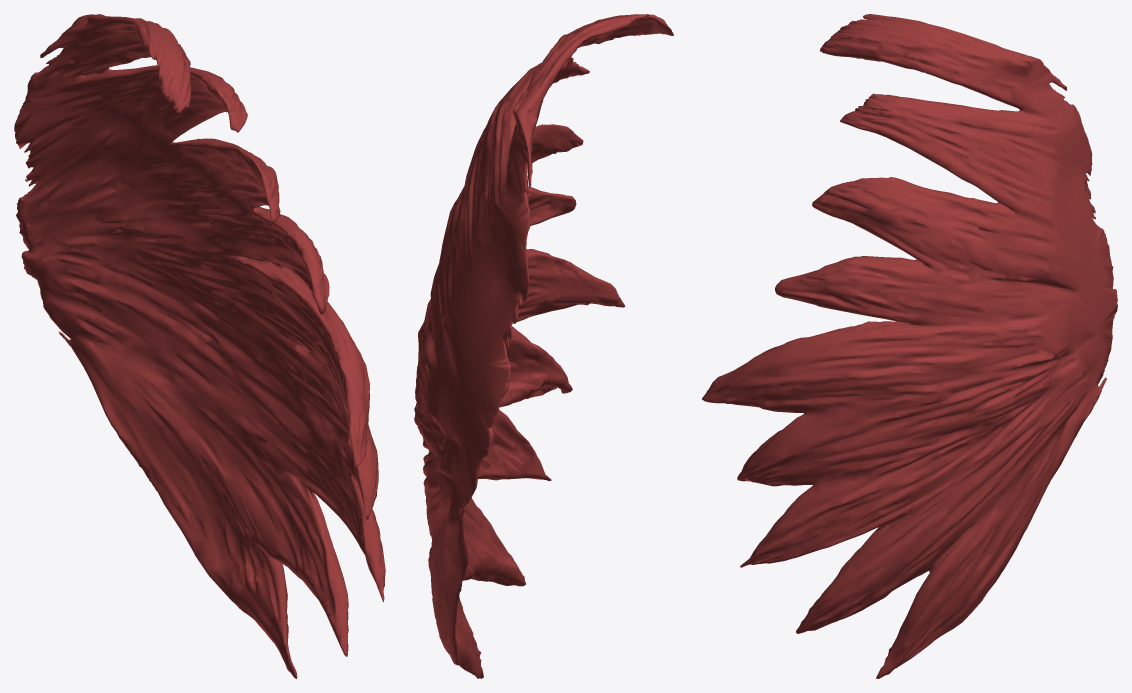
Rendered from serratus-anterior-muscle-l.glb.
The picture shows the model from 3 angles, left to right: view 1: azimuth 30°, elevation 25°; view 2: azimuth 150°, elevation 25°; view 3: azimuth 270°, elevation 25°; orthographic projection. The views are drawn at different scales.
Visible parts, largest first — view 1: Serratus anterior muscle.l; view 2: Serratus anterior muscle.l; view 3: Serratus anterior muscle.l.
Boxes of the visible parts, box(x1,y1,x2,y2) form: Serratus anterior muscle.l: box(14, 14, 385, 678); Serratus anterior muscle.l: box(414, 14, 673, 678); Serratus anterior muscle.l: box(702, 14, 1117, 678).
Bounding box in the file's own units: 0.0865 × 0.2747 × 0.1721.
